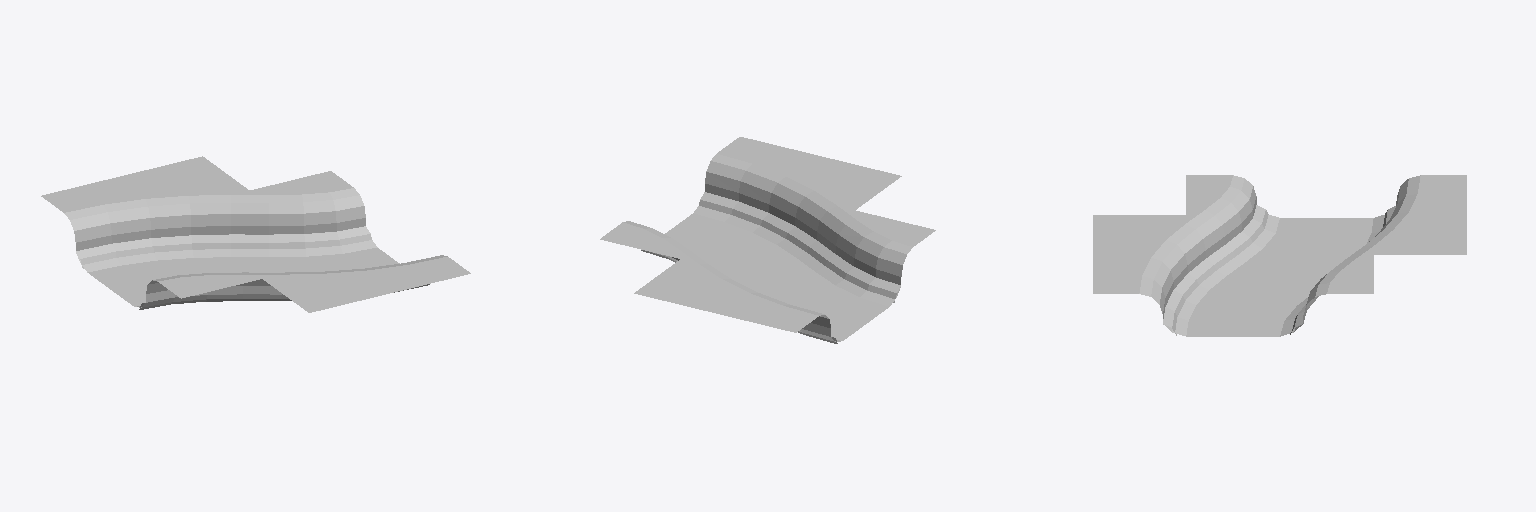
Rendered from Track_Striped_Esse_Single.obj.
3 renders of one model, left to right at view 1: azimuth 30°, elevation 25°; view 2: azimuth 150°, elevation 25°; view 3: azimuth 270°, elevation 25°, orthographic.
Visible parts, largest first — view 1: Grass, Dirt, Raceline_Color_2, Raceline_Color_1; view 2: Grass, Dirt, Raceline_Color_1, Raceline_Color_2; view 3: Grass, Dirt, Raceline_Color_1, Raceline_Color_2.
Part boxes in pixels (x1,y1,x2,y2): Grass: (41, 156, 470, 312); Dirt: (76, 240, 399, 307); Raceline_Color_2: (76, 232, 394, 309); Raceline_Color_1: (112, 226, 429, 303); Grass: (600, 137, 935, 336); Dirt: (652, 206, 900, 341); Raceline_Color_1: (641, 192, 875, 334); Raceline_Color_2: (669, 202, 900, 343); Grass: (1093, 175, 1466, 323); Dirt: (1163, 215, 1384, 336); Raceline_Color_1: (1163, 219, 1304, 335); Raceline_Color_2: (1166, 205, 1395, 316).
Bounding box in the file's own units: 3 × 0.5 × 4.